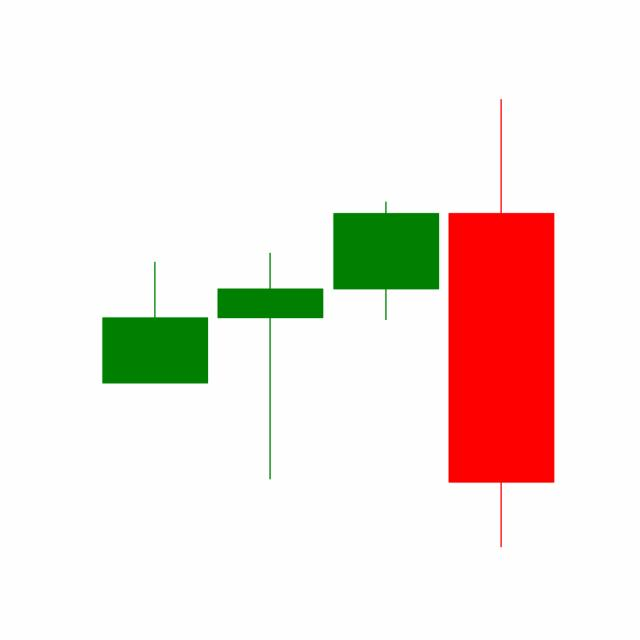Marubozu: (328, 199, 444, 321)
